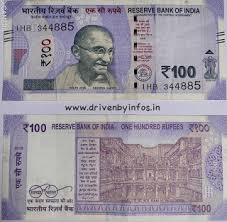hundred: (16, 18, 211, 79)
